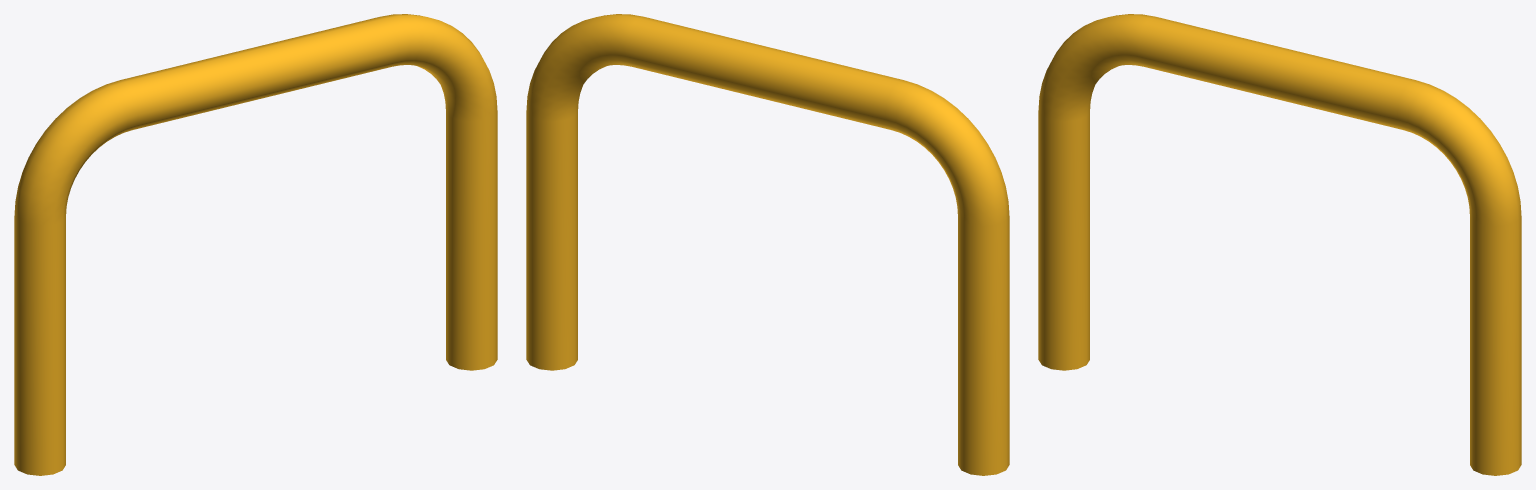
The model's file is gateLargeWide_teamYellow-col.glb.
3 renders of one model, left to right at view 1: azimuth 30°, elevation 25°; view 2: azimuth 150°, elevation 25°; view 3: azimuth 330°, elevation 25°, orthographic.
Parts seen in each view (by area): view 1: gateLargeWide_teamYellow-col; view 2: gateLargeWide_teamYellow-col; view 3: gateLargeWide_teamYellow-col.
Part boxes in pixels (bbox=[...]): gateLargeWide_teamYellow-col: bbox=[14, 14, 497, 475]; gateLargeWide_teamYellow-col: bbox=[526, 14, 1009, 475]; gateLargeWide_teamYellow-col: bbox=[1038, 14, 1521, 475].
Bounding box in the file's own units: 4.4 × 3.2 × 0.4126.
